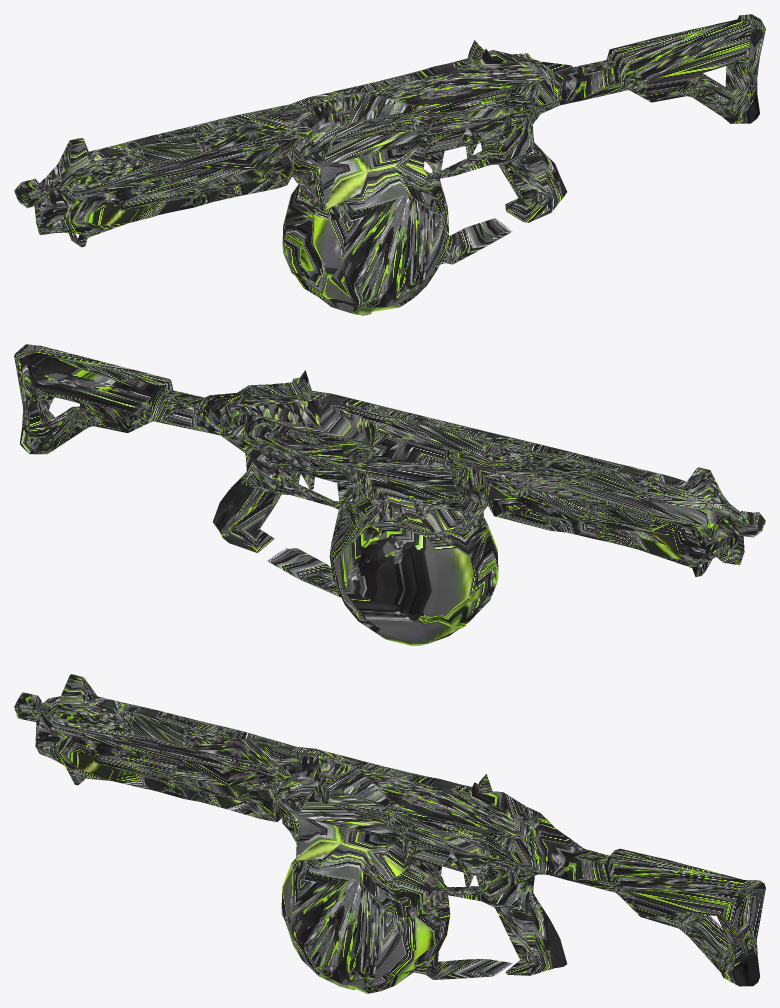
The model's file is gun_autosg_lo.glb.
3 renders of one model, top to bottom at view 1: azimuth 30°, elevation 25°; view 2: azimuth 150°, elevation 25°; view 3: azimuth 330°, elevation 25°, orthographic.
Visible parts, largest first — view 1: Mesh_0; view 2: Mesh_0; view 3: Mesh_0.
Part boxes in pixels (bbox=[...]): Mesh_0: bbox=[14, 14, 765, 315]; Mesh_0: bbox=[14, 344, 765, 645]; Mesh_0: bbox=[14, 674, 765, 993].
Size of the model in its own units: 1.9 by 0.5823 by 0.2204.
Materials: 1 (1 with a texture image).
